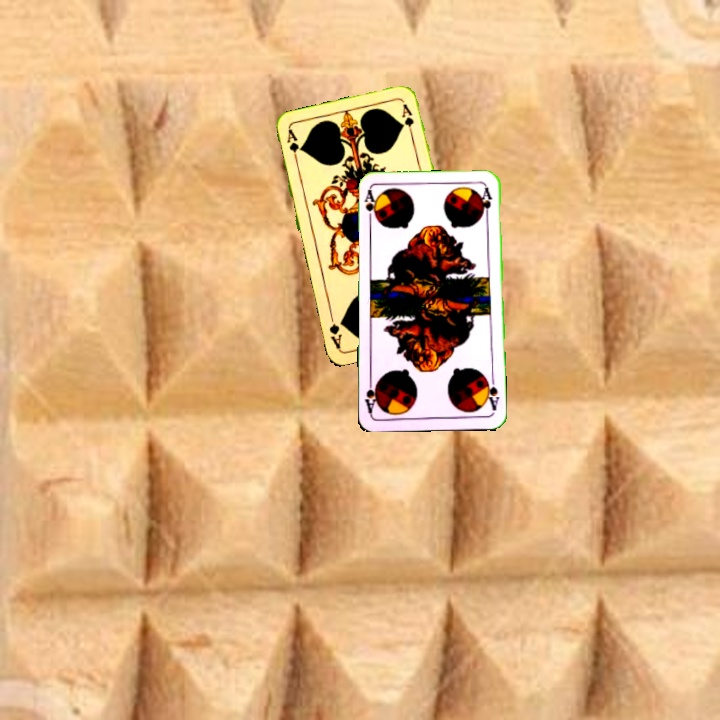GA: (283, 125, 301, 166)
SA: (482, 373, 502, 413), (360, 186, 378, 227)
